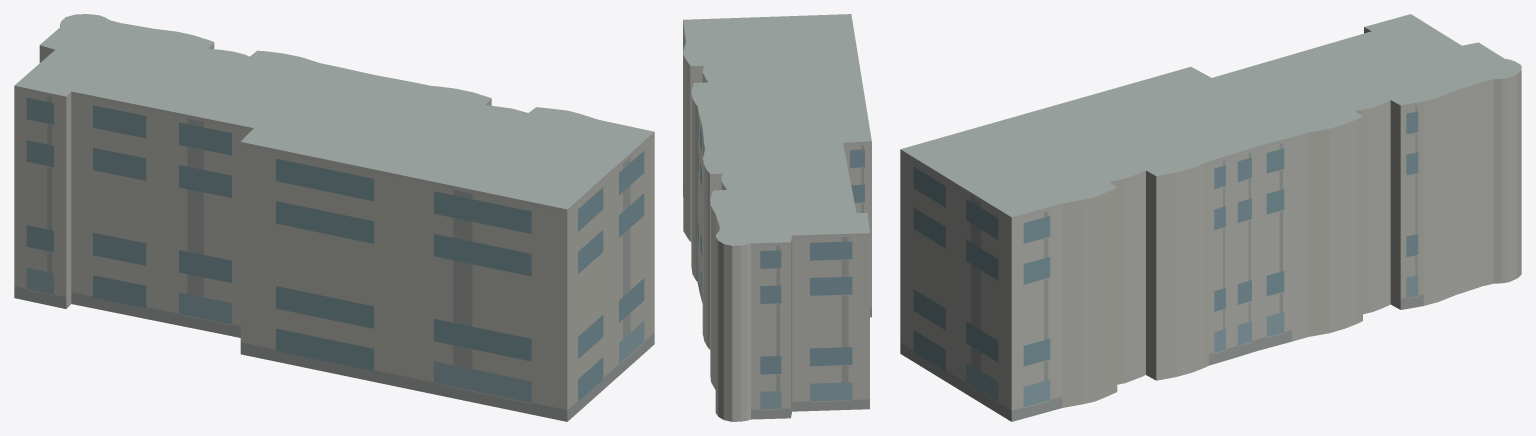
Rendered from survey-upis-32782122.glb.
3 renders of one model, left to right at view 1: azimuth 30°, elevation 25°; view 2: azimuth 150°, elevation 25°; view 3: azimuth 270°, elevation 25°, orthographic. The views are drawn at different scales.
Parts seen in each view (by area): view 1: survey-upis-32782122.tmp; view 2: survey-upis-32782122.tmp; view 3: survey-upis-32782122.tmp.
Part boxes in pixels (<box>): survey-upis-32782122.tmp: <box>14,14,654,421</box>; survey-upis-32782122.tmp: <box>683,14,871,421</box>; survey-upis-32782122.tmp: <box>900,14,1521,421</box>.
Bounding box in the file's own units: 28.59 × 13.4 × 36.9.
